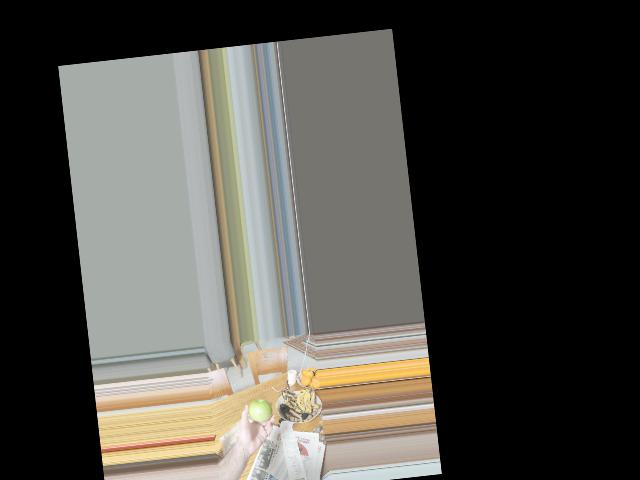apple: (244, 397, 272, 426)
